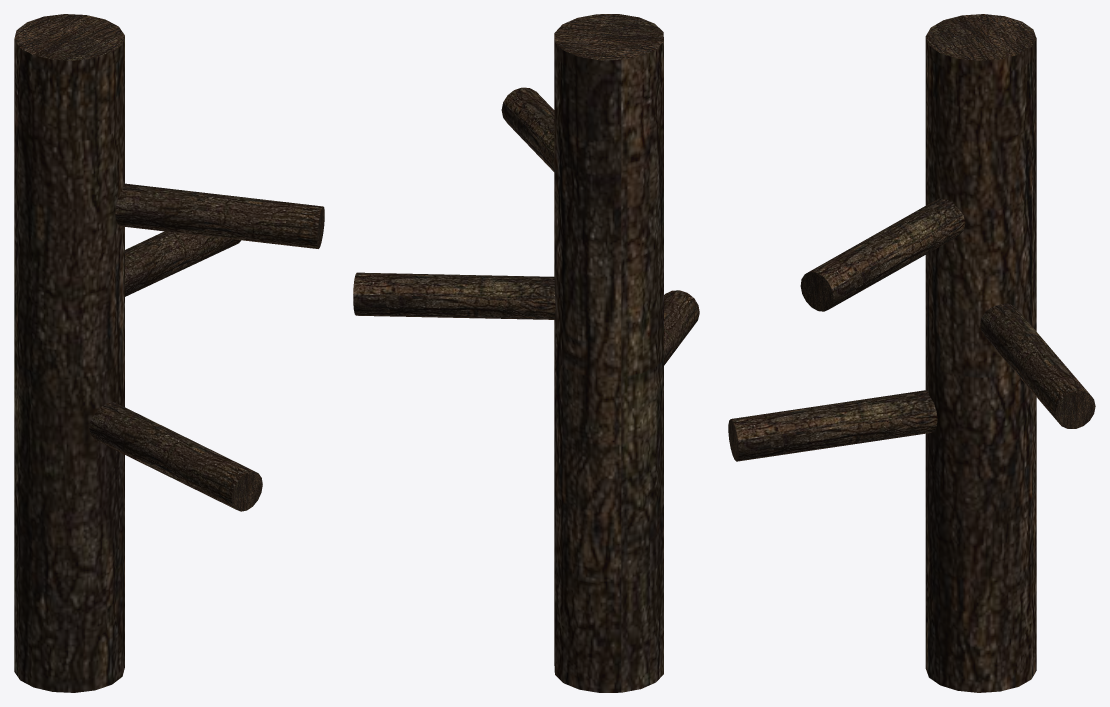
The model's file is Woodman.fbx.
The picture shows the model from 3 angles, left to right: view 1: azimuth 30°, elevation 25°; view 2: azimuth 150°, elevation 25°; view 3: azimuth 270°, elevation 25°; orthographic projection.
Visible parts, largest first — view 1: Deadman; view 2: Deadman; view 3: Deadman.
Part boxes in pixels (box(x1,y1,x2,y2)): Deadman: box(14, 14, 324, 692); Deadman: box(353, 14, 699, 692); Deadman: box(728, 14, 1095, 692).
Size of the model in its own units: 0.4167 by 0.9667 by 0.509.
Materials: 1 (1 with a texture image).
